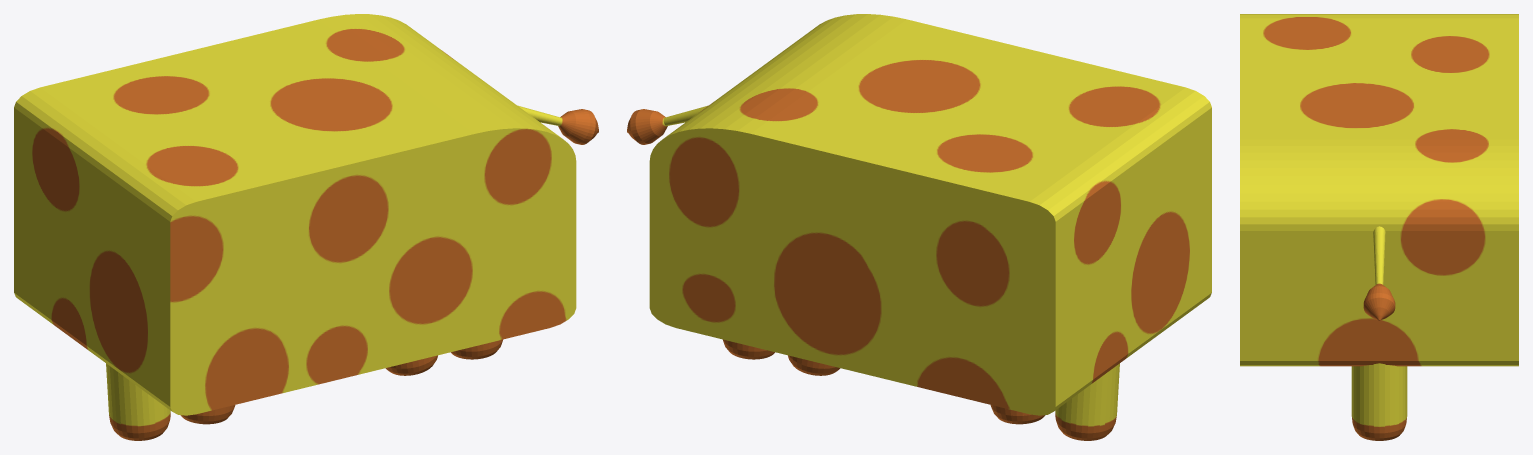
The model's file is body.obj.
The picture shows the model from 3 angles, left to right: view 1: azimuth 30°, elevation 25°; view 2: azimuth 150°, elevation 25°; view 3: azimuth 270°, elevation 25°; orthographic projection. The views are drawn at different scales.
Parts seen in each view (by area): view 1: 円柱.001; view 2: 円柱.001; view 3: 円柱.001.
Boxes of the visible parts, x1,y1,x2,y2 form: 円柱.001: [14, 14, 598, 440]; 円柱.001: [627, 14, 1211, 440]; 円柱.001: [1240, 14, 1518, 440].
Size of the model in its own units: 3.74 by 2.08 by 2.
Materials: 1 (1 with a texture image).
